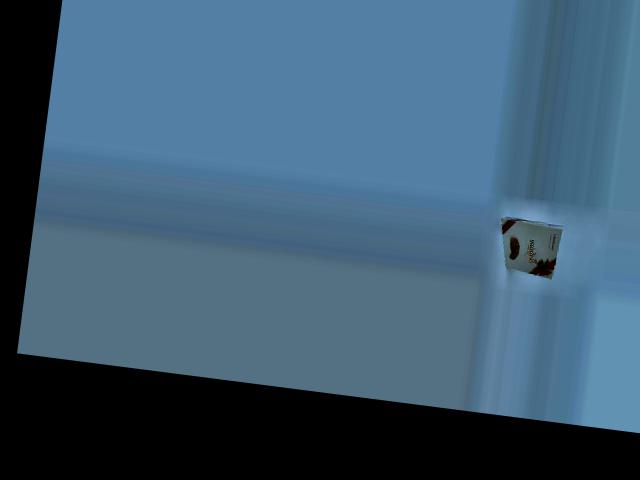chocolate: (491, 204, 563, 280)
